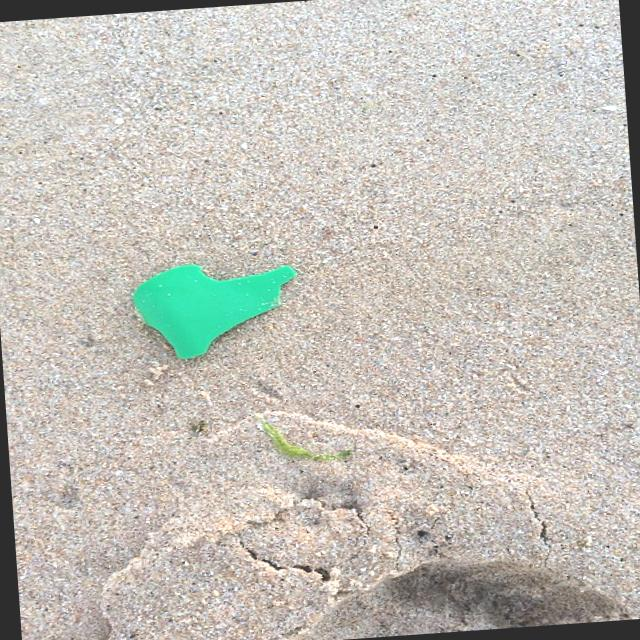Trash: (130, 254, 323, 368)
